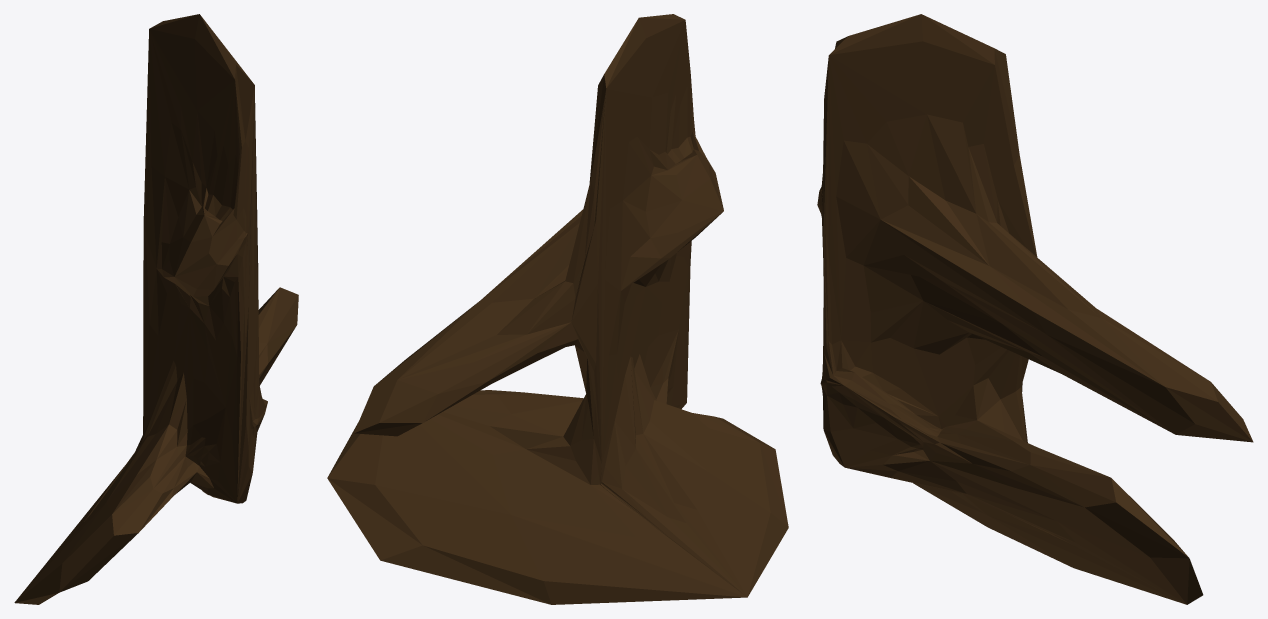
3 renders of one model, left to right at view 1: azimuth 30°, elevation 25°; view 2: azimuth 150°, elevation 25°; view 3: azimuth 270°, elevation 25°, orthographic. The views are drawn at different scales.
Visible parts, largest first — view 1: 341_Cube.1391; view 2: 341_Cube.1391; view 3: 341_Cube.1391.
Part boxes in pixels (left/top/right/bottom): 341_Cube.1391: left=14, top=14, right=298, bottom=604; 341_Cube.1391: left=327, top=14, right=788, bottom=604; 341_Cube.1391: left=817, top=14, right=1253, bottom=604.
Size of the model in its own units: 9.6 by 14.94 by 10.35.
